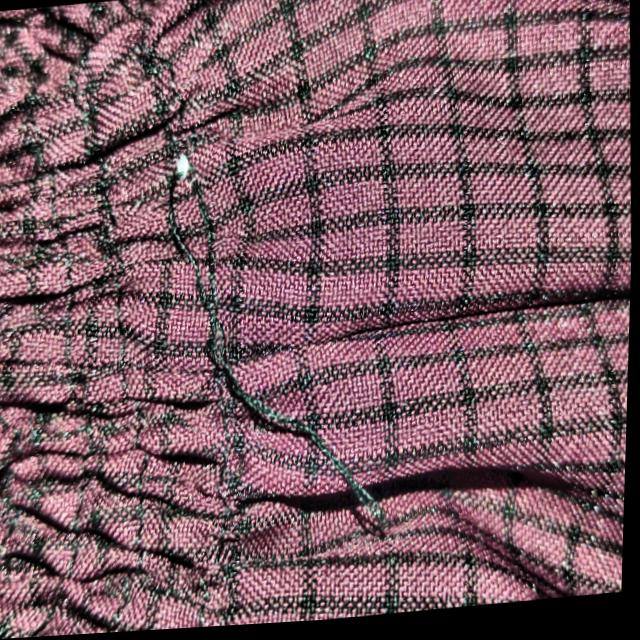Stitch: (105, 76, 417, 580)
